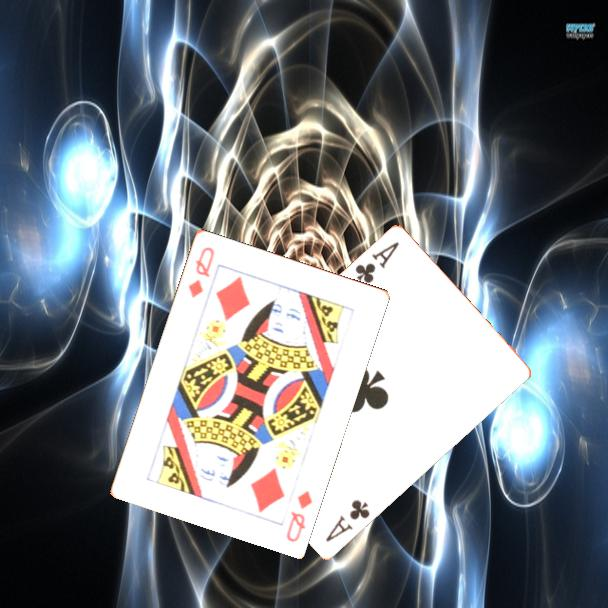c01: (322, 496, 373, 545), (351, 239, 402, 287)
d12: (282, 486, 315, 545), (185, 243, 217, 301)
